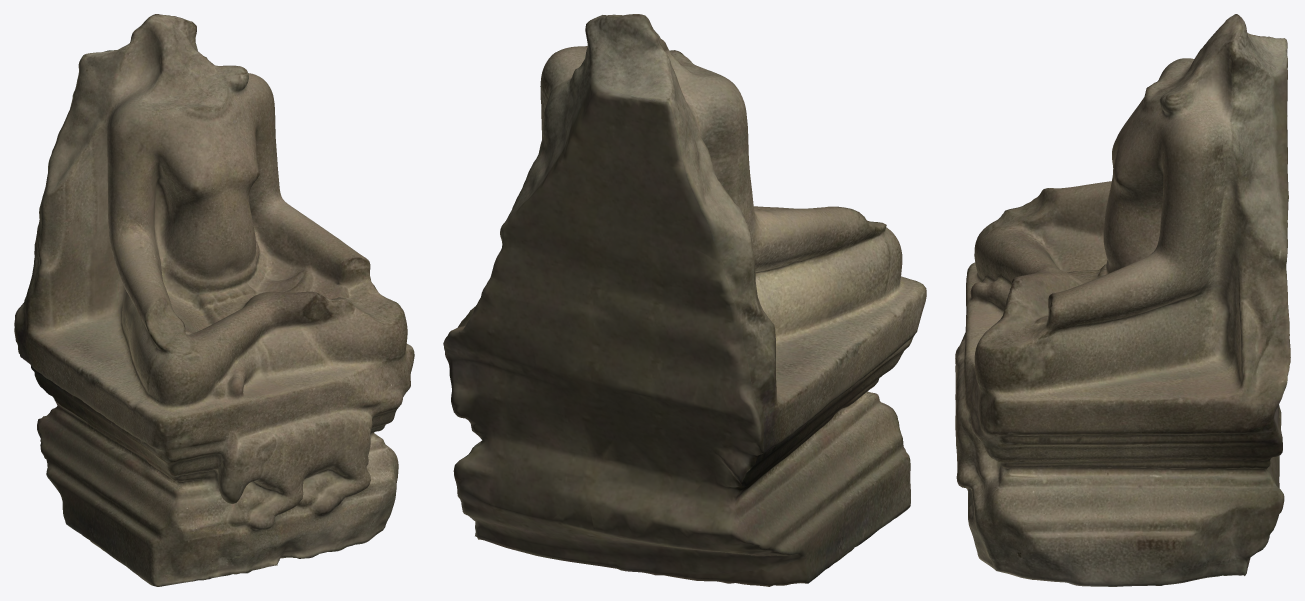
File: 14_thanphuonghuong_agni_final.glb
3 views of the same model, side by side, from view 1: azimuth 30°, elevation 25°; view 2: azimuth 150°, elevation 25°; view 3: azimuth 270°, elevation 25° (orthographic). The views are drawn at different scales.
Bounding box in the file's own units: 0.329 × 0.534 × 0.3291.
Materials: 1 (1 with a texture image).
